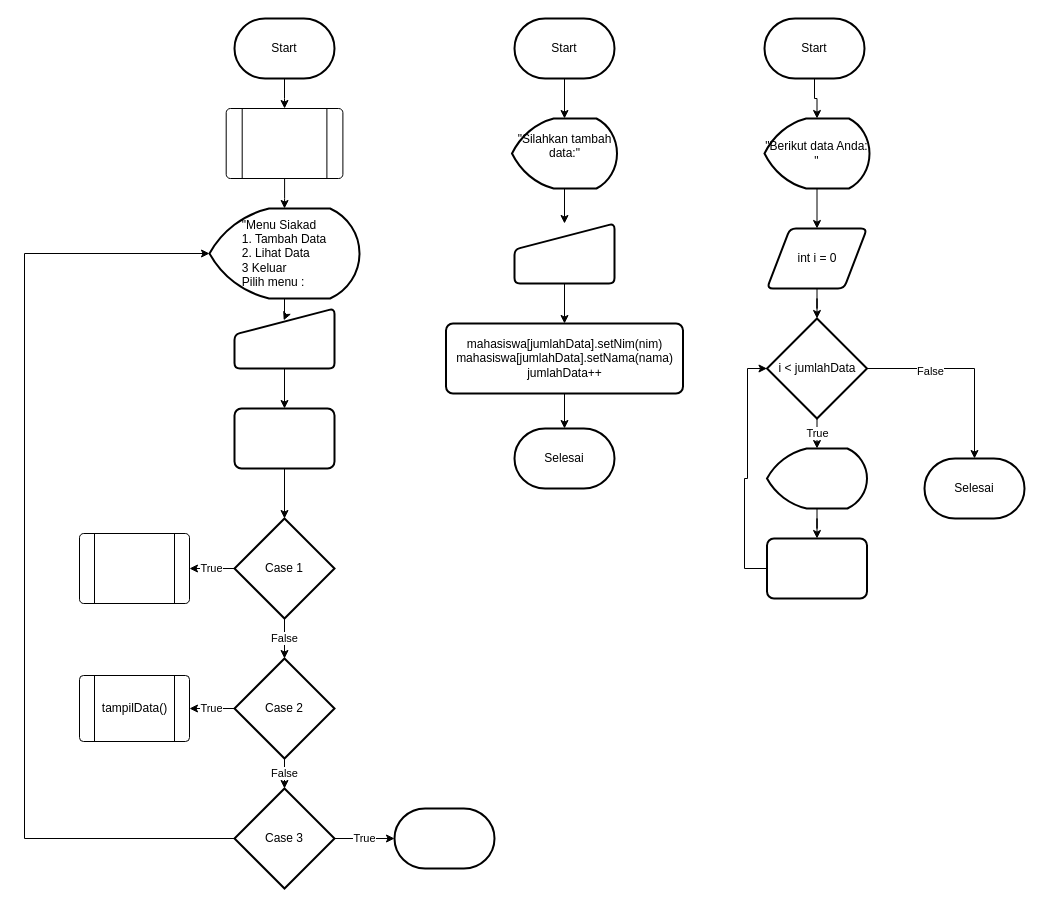
The diagram is 1043 pixels wide and 906 high, and some of its shapes have lost their labels. Here are the shapes that lost their labels. From the top down, the centre of each, then its label:
the point at 284,143: menu()
the point at 564,253: nim, nama
the point at 284,338: int inputMenu
the point at 284,438: switch number
the point at 817,478: mahasiswa[i].getNim() mahasiswa[i].getNama()
the point at 134,568: tambahData()
the point at 817,568: i++
the point at 444,838: Finish
